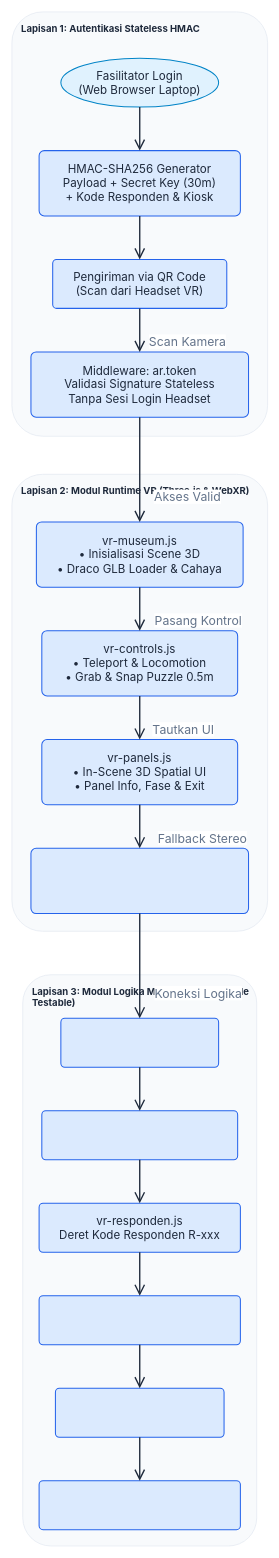
Image size: 279x1558. Some labels were removed from this diagram. Each missing label, with the centre of its shape:
"vr-events.js Buffer & Batch sendBeacon" goes at (139,1135).
"vr-hp.js • Mode Stereo Ponsel • DeviceOrientation Controls" goes at (139,880).
"vr-pandangan.js Spawn Point & Bounding Box" goes at (139,1505).
"vr-petunjuk.js Kalkulasi Sudut Arah Objek" goes at (139,1320).
"vr-phases.js State Machine 4 Fase" goes at (139,1042).
"vr-sesi.js Penguncian Sesi Kiosk" goes at (139,1412).
